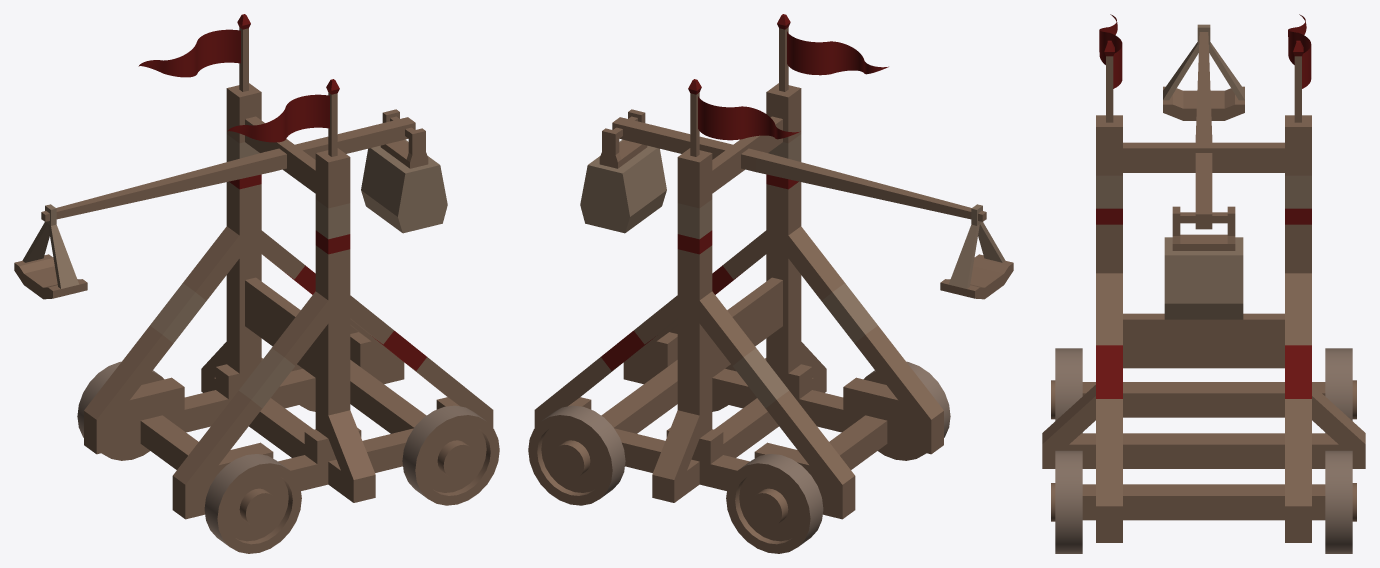
Rendered from cs_trebuchet.glb.
The picture shows the model from 3 angles, left to right: view 1: azimuth 30°, elevation 25°; view 2: azimuth 150°, elevation 25°; view 3: azimuth 270°, elevation 25°; orthographic projection. The views are drawn at different scales.
Visible parts, largest first — view 1: cs_trebuchet2; view 2: cs_trebuchet2; view 3: cs_trebuchet2.
Boxes of the visible parts, box(x1,y1,x2,y2) form: cs_trebuchet2: box(14, 14, 499, 553); cs_trebuchet2: box(528, 14, 1013, 553); cs_trebuchet2: box(1042, 14, 1365, 553).
Size of the model in its own units: 5.47 by 5.5 by 3.53.
